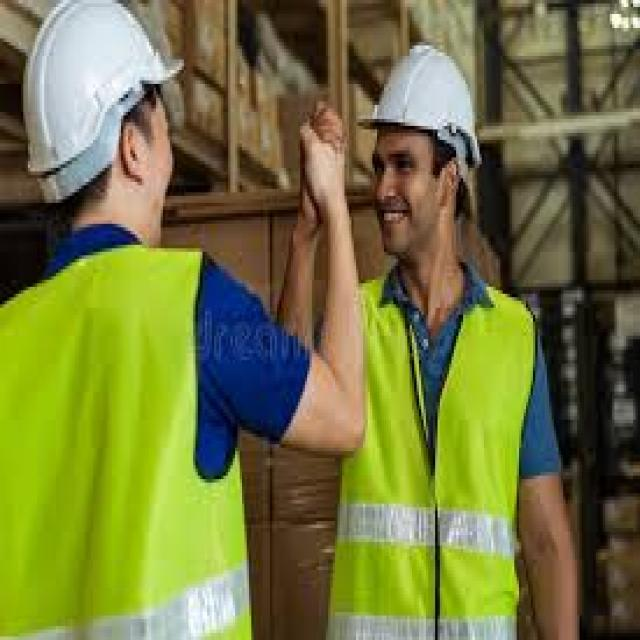Reflective-Jacket: (0, 241, 256, 640), (324, 273, 536, 636)
Safety-Helmet: (17, 0, 188, 203), (358, 38, 489, 168)
